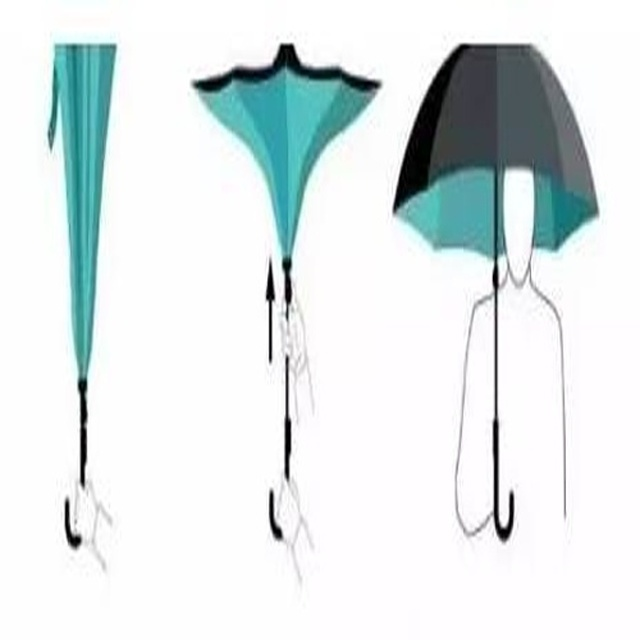umbrella: (390, 43, 602, 548), (190, 43, 386, 547), (45, 38, 122, 556)
